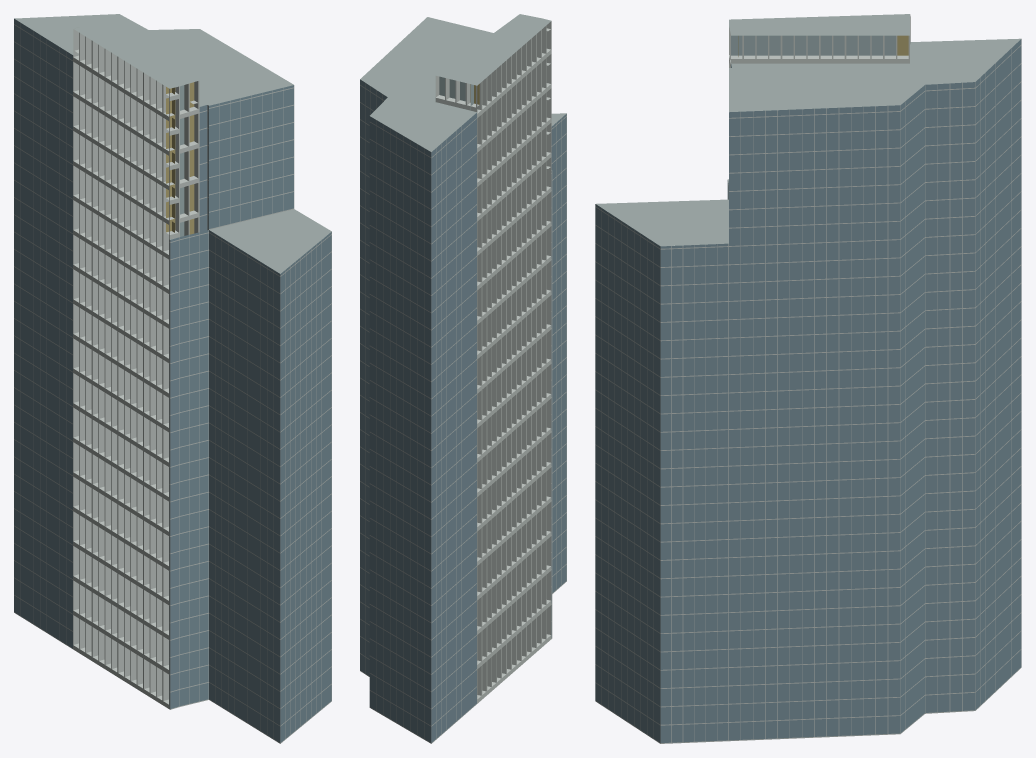
File: tour-trinity-near.glb
3 renders of one model, left to right at view 1: azimuth 30°, elevation 25°; view 2: azimuth 150°, elevation 25°; view 3: azimuth 270°, elevation 25°, orthographic. The views are drawn at different scales.
Visible parts, largest first — view 1: tour-trinity-0-glass, tour-trinity-0-frame, tour-trinity-0-roof, tour-trinity-0-gold, tour-trinity-0-coreglass; view 2: tour-trinity-0-glass, tour-trinity-0-frame, tour-trinity-0-roof, tour-trinity-0-coreglass; view 3: tour-trinity-0-glass, tour-trinity-0-frame, tour-trinity-0-roof, tour-trinity-0-coreglass.
Boxes of the visible parts, bbox=[...] form: tour-trinity-0-glass: bbox=[14, 18, 331, 742]; tour-trinity-0-frame: bbox=[14, 23, 331, 743]; tour-trinity-0-roof: bbox=[14, 14, 331, 273]; tour-trinity-0-gold: bbox=[166, 82, 194, 234]; tour-trinity-0-coreglass: bbox=[180, 85, 184, 236]; tour-trinity-0-glass: bbox=[360, 79, 566, 742]; tour-trinity-0-frame: bbox=[360, 21, 566, 743]; tour-trinity-0-roof: bbox=[360, 14, 566, 170]; tour-trinity-0-coreglass: bbox=[439, 76, 473, 110]; tour-trinity-0-glass: bbox=[595, 39, 1021, 742]; tour-trinity-0-frame: bbox=[595, 14, 1021, 743]; tour-trinity-0-roof: bbox=[596, 14, 1020, 246]; tour-trinity-0-coreglass: bbox=[731, 35, 895, 55].
Size of the model in its own units: 34.82 by 140 by 82.25.
